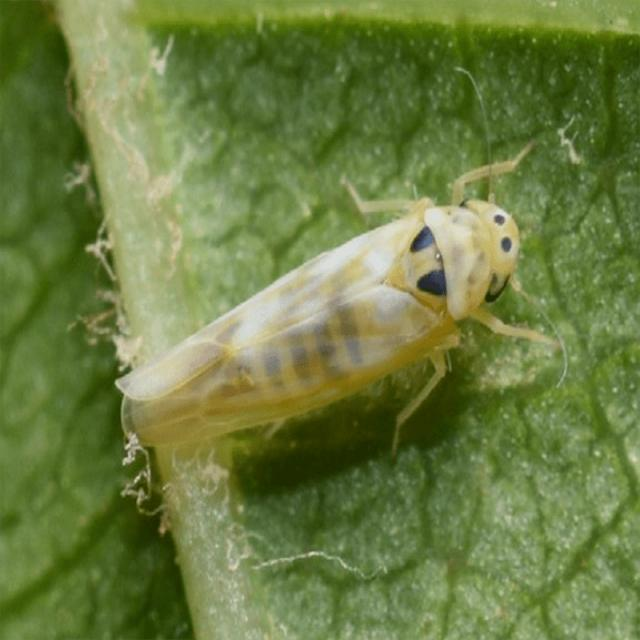Yechan: (112, 133, 546, 482)
